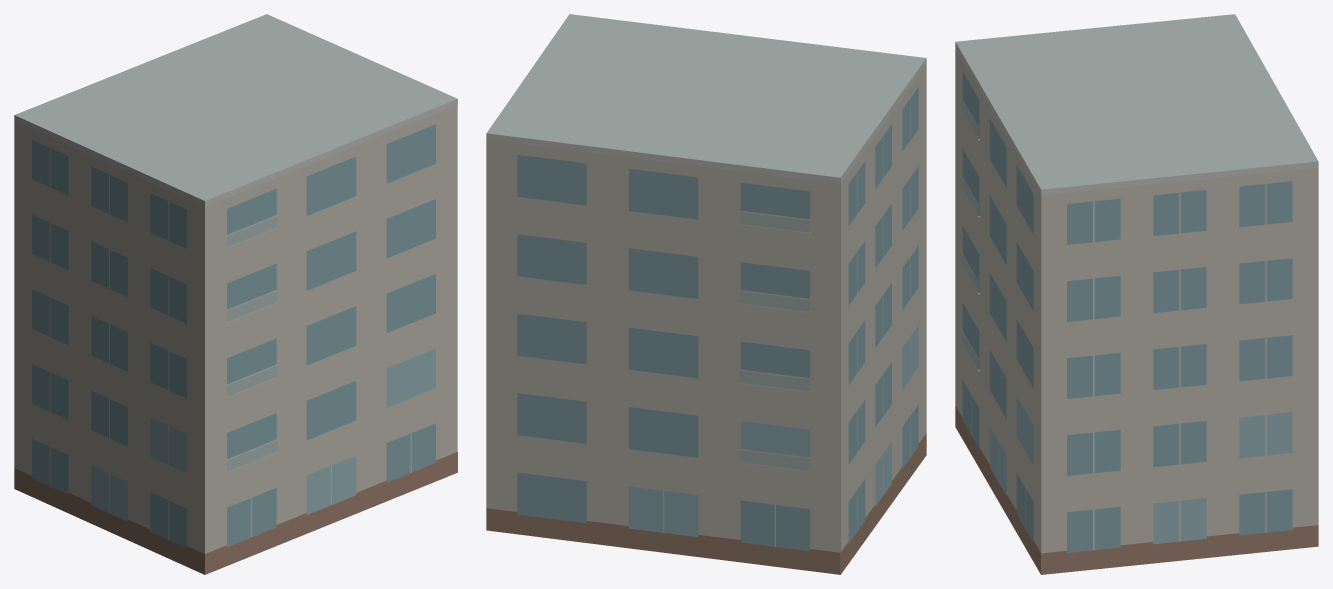
Rendered from survey-upis-32658467.glb.
The picture shows the model from 3 angles, left to right: view 1: azimuth 30°, elevation 25°; view 2: azimuth 150°, elevation 25°; view 3: azimuth 270°, elevation 25°; orthographic projection. The views are drawn at different scales.
Visible parts, largest first — view 1: survey-upis-32658467.tmp; view 2: survey-upis-32658467.tmp; view 3: survey-upis-32658467.tmp.
Boxes of the visible parts, bbox=[...] form: survey-upis-32658467.tmp: bbox=[14, 14, 457, 574]; survey-upis-32658467.tmp: bbox=[486, 14, 926, 574]; survey-upis-32658467.tmp: bbox=[955, 14, 1318, 574].
Bounding box in the file's own units: 14.93 × 15.25 × 13.04.
